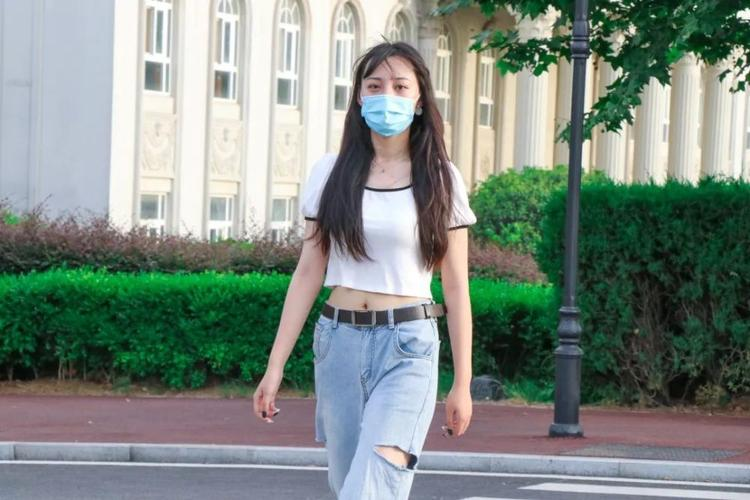mask: (357, 52, 422, 129)
